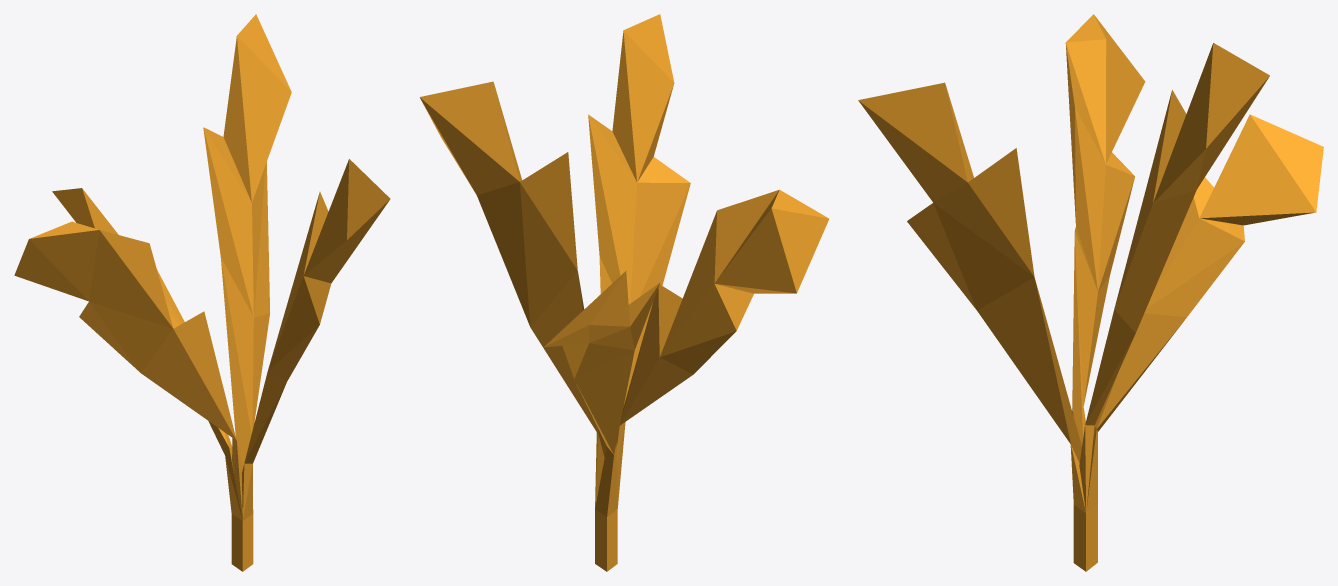
Rendered from SM_Carrot_Plant_Sapling.fbx.
3 views of the same model, side by side, from view 1: azimuth 30°, elevation 25°; view 2: azimuth 150°, elevation 25°; view 3: azimuth 270°, elevation 25° (orthographic). The views are drawn at different scales.
Parts seen in each view (by area): view 1: carrot-plant-sapling; view 2: carrot-plant-sapling; view 3: carrot-plant-sapling.
Boxes of the visible parts, x1=… form: carrot-plant-sapling: x1=14, y1=14, x2=390, y2=571; carrot-plant-sapling: x1=419, y1=14, x2=828, y2=571; carrot-plant-sapling: x1=858, y1=14, x2=1323, y2=571.
Size of the model in its own units: 0.1416 by 0.2077 by 0.1591.
